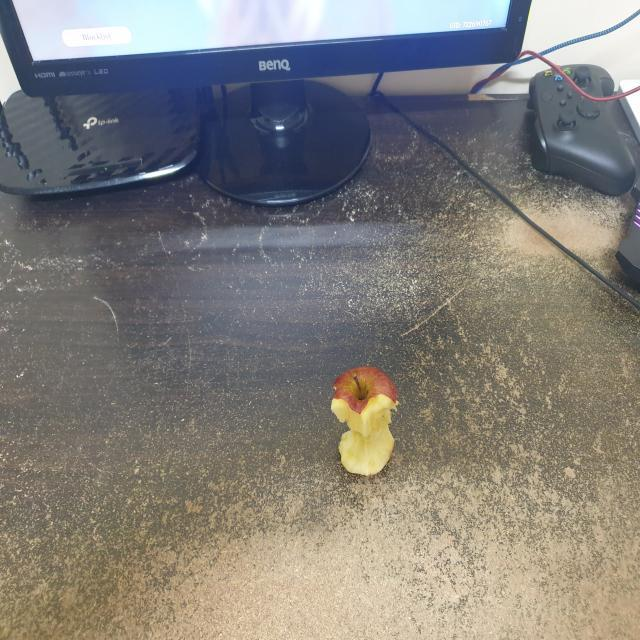apple: (329, 354, 412, 484)
